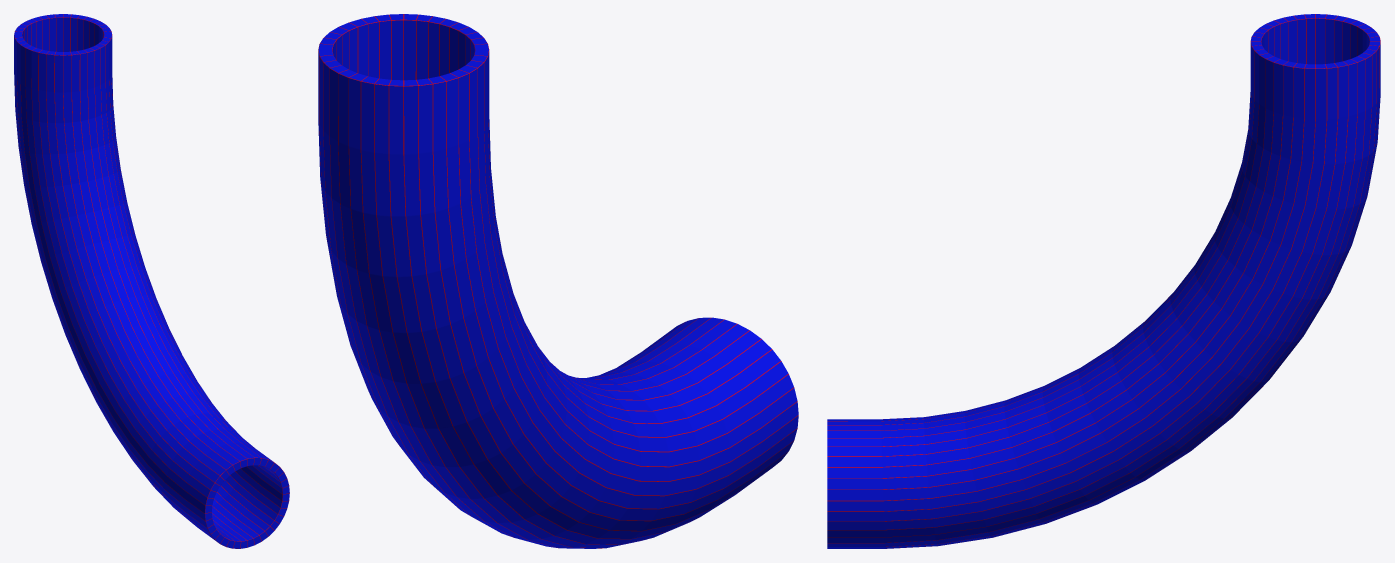
The model's file is L3_Pipe.fbx.
3 renders of one model, left to right at view 1: azimuth 30°, elevation 25°; view 2: azimuth 150°, elevation 25°; view 3: azimuth 270°, elevation 25°, orthographic. The views are drawn at different scales.
Parts seen in each view (by area): view 1: L3_Pipe; view 2: L3_Pipe; view 3: L3_Pipe.
Boxes of the visible parts, x1,y1,x2,y2 form: L3_Pipe: [14, 14, 289, 548]; L3_Pipe: [318, 14, 798, 548]; L3_Pipe: [827, 14, 1380, 548].
Bounding box in the file's own units: 2399 × 10200 × 10200.
